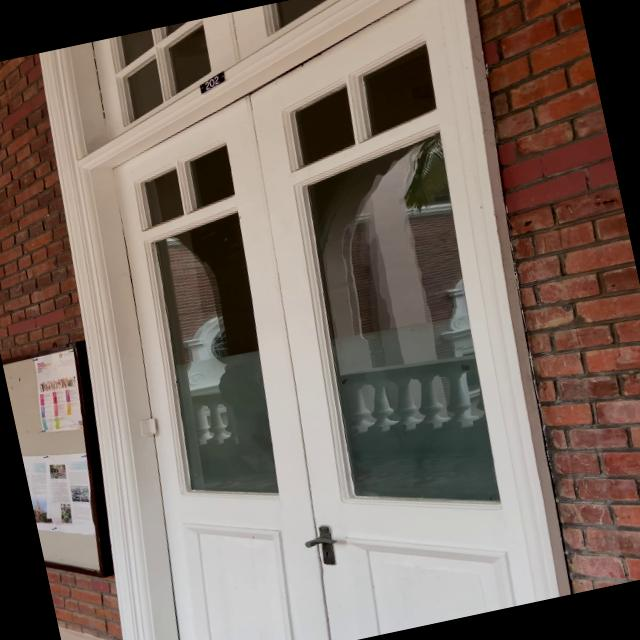room202: (196, 70, 229, 94)
